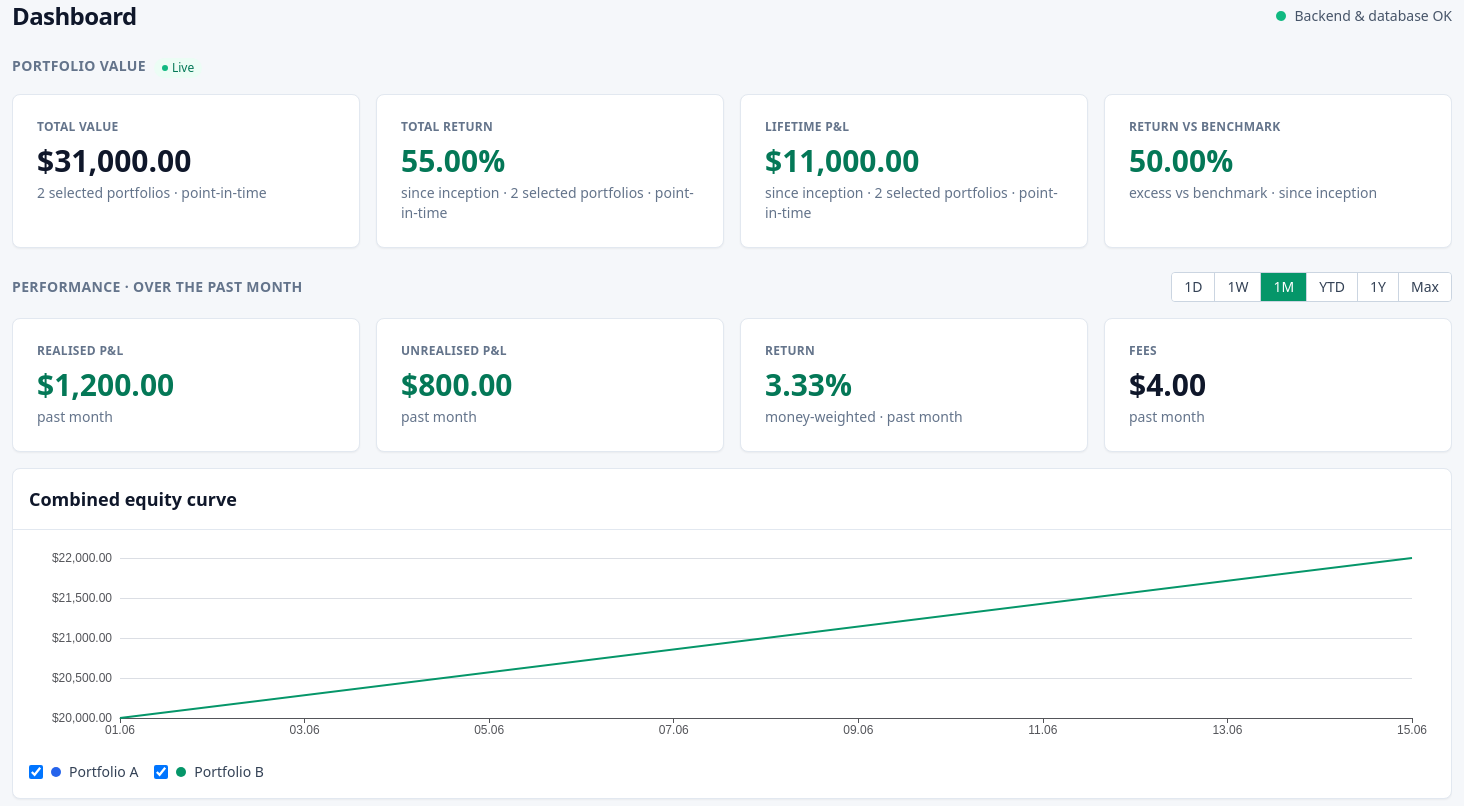
Test case: DashboardPage › refetches keyed by range and updates performers while balance stays stable
This screenshot has width=1464, height=806.
Step 1. Click the button "YTD" → (1332, 287), box [1306, 273, 1357, 301]
(page scrolled)
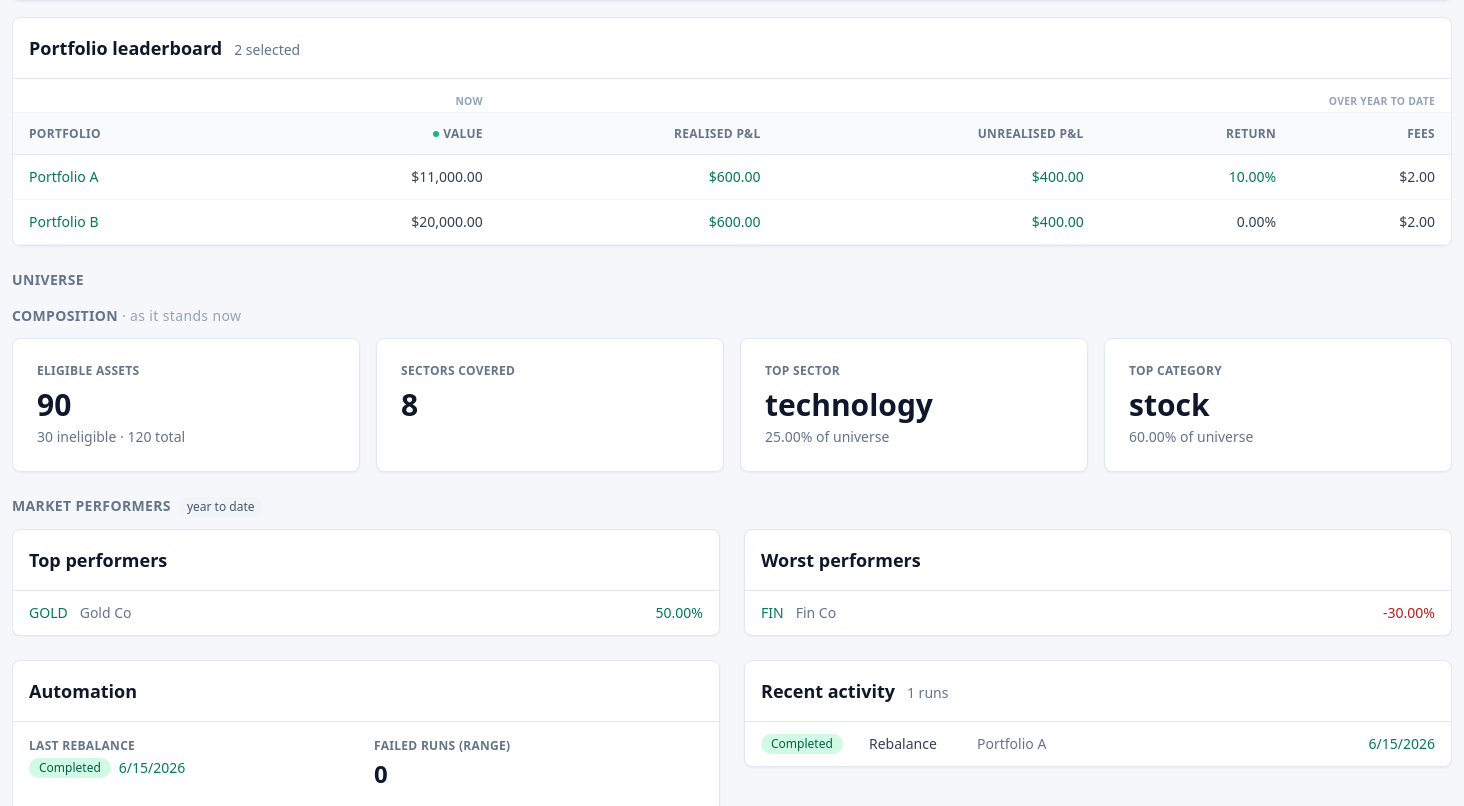
Expected: the text "90" is shown, [37, 384, 71, 425]
Result: the link "GOLD" is shown at [29, 603, 68, 623]
